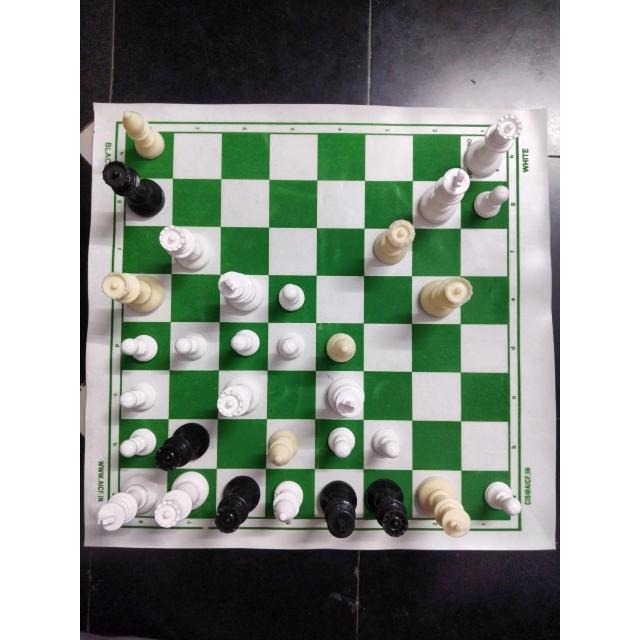black-king: (315, 479, 359, 542)
black-queen: (99, 159, 166, 220), (363, 477, 412, 541), (215, 470, 263, 534), (154, 421, 212, 473)
white-bishop: (116, 110, 170, 162), (261, 425, 307, 469), (268, 478, 308, 525), (322, 327, 361, 367)
white-king: (96, 472, 164, 535), (415, 474, 477, 540), (416, 164, 472, 226), (214, 270, 266, 317), (320, 376, 368, 420)
white-pawn: (477, 480, 525, 519), (270, 278, 314, 317), (115, 382, 163, 416), (368, 425, 408, 465), (470, 185, 512, 223), (115, 424, 159, 460), (114, 331, 160, 363), (320, 426, 359, 462), (170, 327, 210, 362), (226, 327, 262, 359), (271, 331, 306, 361)
white-queen: (461, 109, 523, 177), (96, 268, 168, 317), (152, 474, 212, 528), (155, 224, 215, 272), (416, 275, 474, 321), (214, 374, 264, 420), (370, 218, 417, 266)
